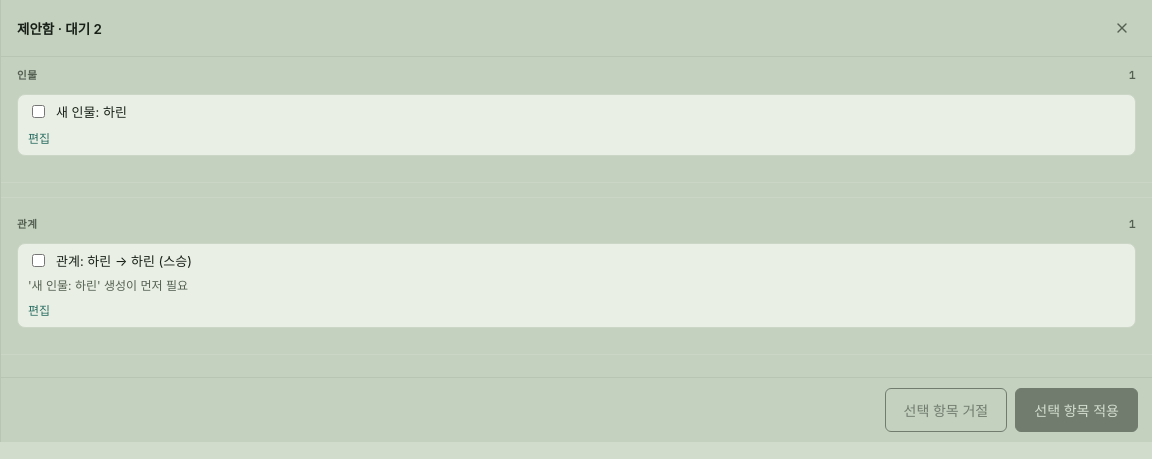
Test: ProposalInbox › auto-selects an unmet dependency and notes it
Expected: the text "관계: 하린 → 하린 (스승)" is shown, top-left (56, 252), bottom-right (192, 270)
Expected: the text "'새 인물: 하린' 생성이 먼저 필요" is shown, top-left (28, 278), bottom-right (188, 293)
Click the checkbox labelled "관계: 하린 → 하린 (스승)": [38, 261] box top-left (32, 254), bottom-right (45, 267)
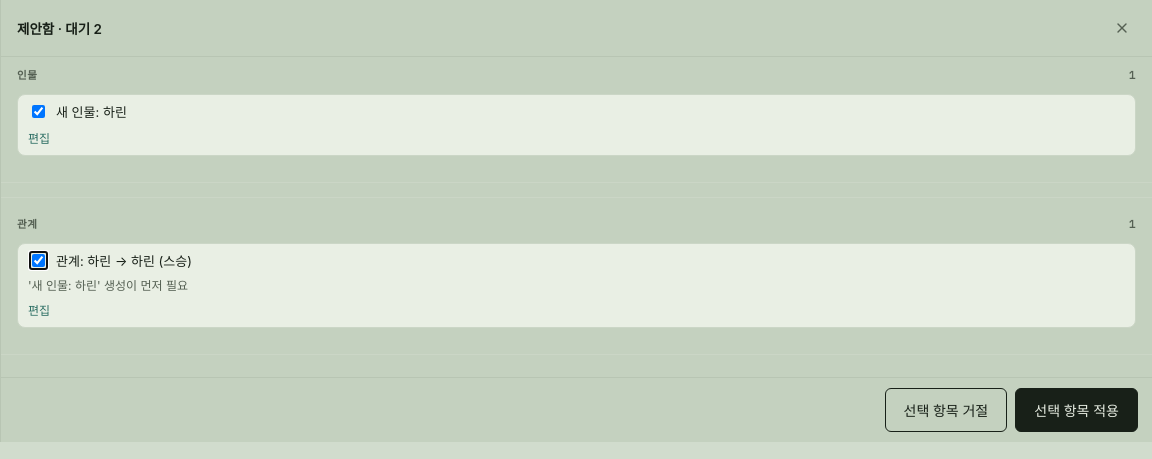
Result: the checkbox labelled "새 인물: 하린" is checked at top-left (32, 105), bottom-right (45, 118)
